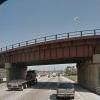Bridge: (5, 27, 95, 69)
